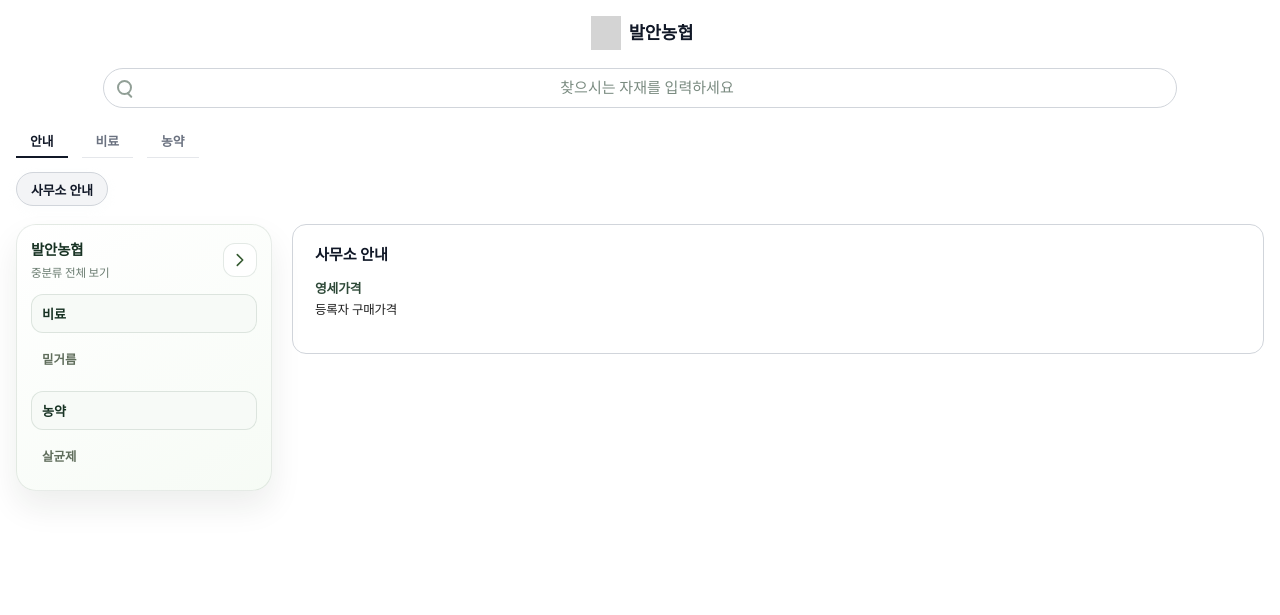
Test: information intro rendering › exits information rendering when the shopper searches
Expected: the text "등록자 구매가격" is shown, [315,303,397,317]
Type "알파" into the search field.
click(654, 88); type("알파")  # box [144,78,1164,98]
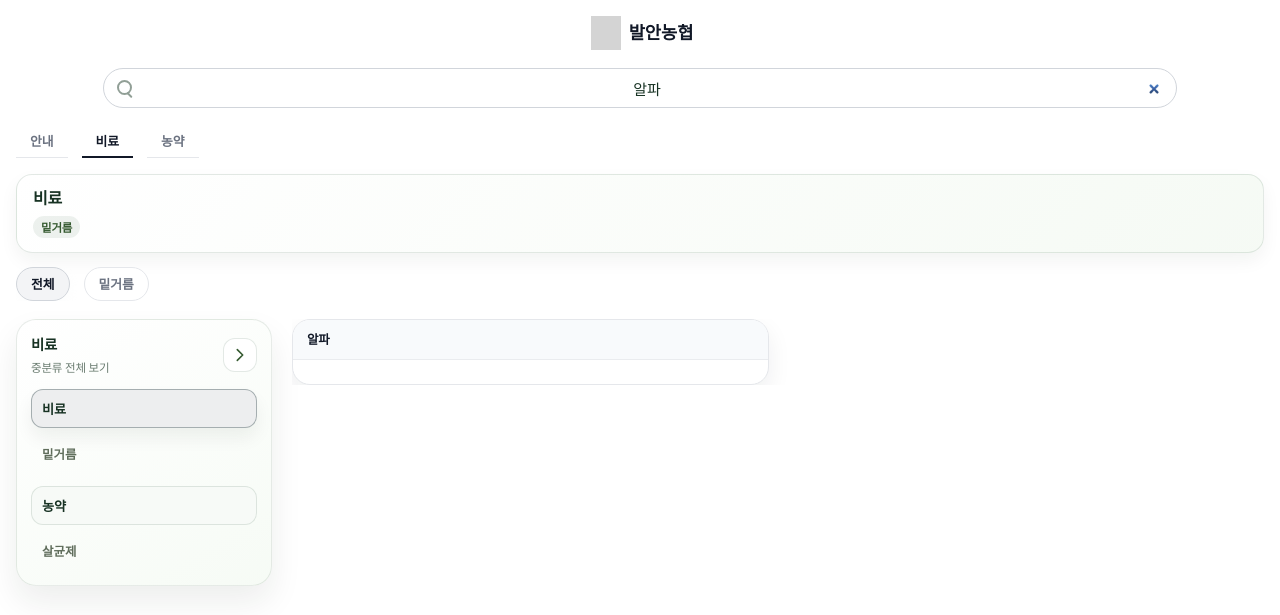
Now the text "등록자 구매가격" is gone
Now the text "알파" is shown, box [307,333,330,347]
